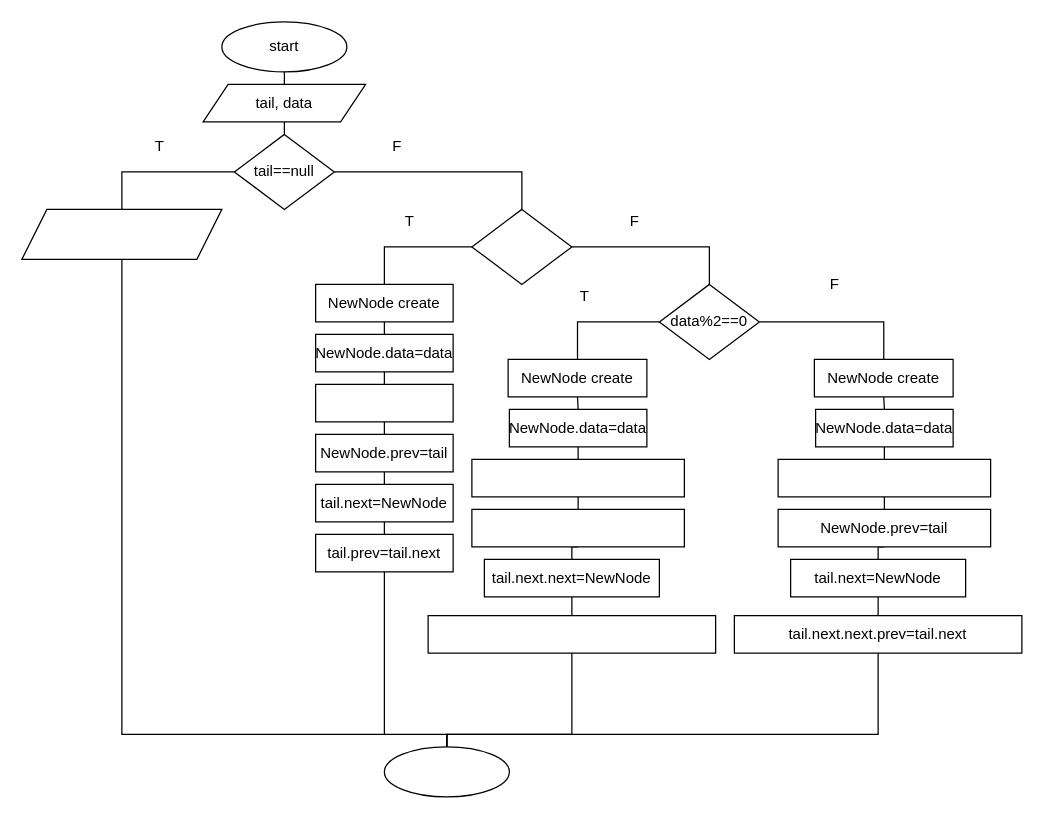
The diagram is 1044 pixels wide and 819 high, and some of its shapes have lost their labels. The shapes that lost their labels are listed below. From the top down, each one's centre as x and y in pixels, then its label:
the point at 121,233: операція неможлива
the point at 521,246: tail.next=tail
the point at 383,402: NewNode.next=tail
the point at 577,477: NewNode.next=tail.next.next
the point at 884,477: NewNode.next=tail.next
the point at 577,527: NewNode.prev=tail.next
the point at 571,633: tail . next . next . next . prev = tail . next . next
the point at 446,771: end
